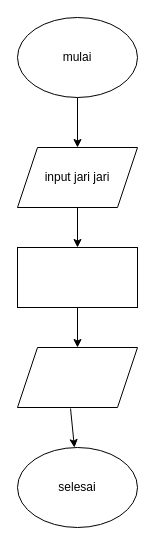
Some shapes in this 155 by 545 pixel diagram are drawn without their labels. Each missing label, with the centre of its shape:
luas = Pi * R * R: point 77,277
print luas: point 77,377
